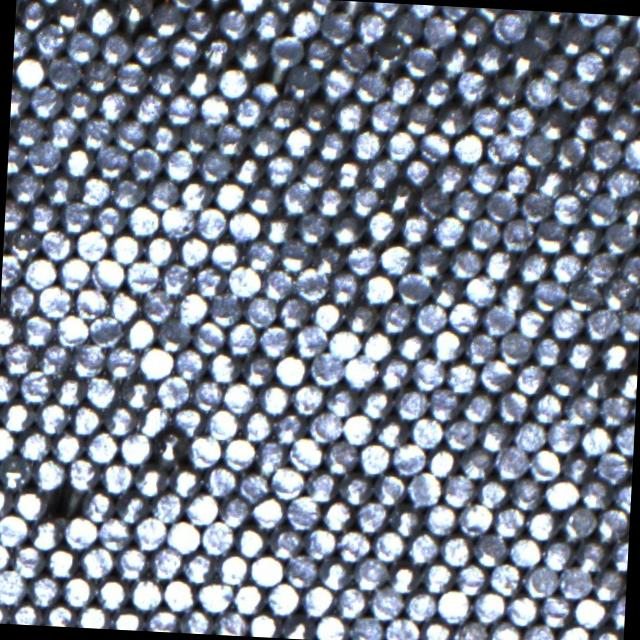tool: (368, 585, 404, 621), (560, 505, 596, 541), (340, 410, 376, 446), (158, 260, 194, 296), (110, 174, 146, 210), (112, 116, 148, 152), (548, 304, 584, 340), (284, 64, 320, 100), (268, 34, 304, 70), (600, 276, 636, 312), (394, 270, 430, 306), (292, 322, 328, 358), (586, 134, 622, 170), (488, 560, 524, 596), (552, 132, 588, 168), (604, 106, 640, 142), (406, 470, 442, 506), (429, 326, 464, 362), (216, 5, 252, 40), (500, 216, 535, 252), (531, 276, 566, 312), (290, 380, 326, 415), (125, 258, 160, 294), (421, 12, 456, 48), (379, 298, 414, 334), (118, 430, 153, 466), (578, 476, 613, 512), (524, 506, 560, 541), (226, 264, 262, 299), (567, 220, 602, 256), (10, 543, 46, 578), (22, 254, 58, 289), (81, 56, 116, 92), (372, 471, 408, 506), (74, 226, 109, 262), (26, 138, 61, 174), (324, 440, 359, 476), (443, 414, 478, 450), (16, 428, 52, 463), (437, 42, 472, 78), (440, 472, 476, 507), (488, 71, 523, 107), (294, 266, 329, 302), (78, 544, 114, 579), (592, 566, 627, 602), (46, 54, 81, 90), (73, 284, 108, 320), (536, 104, 571, 140), (69, 341, 104, 377), (584, 191, 620, 226), (258, 322, 293, 358), (266, 94, 301, 130), (191, 318, 226, 354), (54, 312, 89, 348), (197, 578, 232, 614), (36, 282, 71, 318), (63, 514, 98, 550), (403, 42, 438, 78), (283, 552, 318, 588), (444, 358, 479, 394), (270, 464, 305, 499), (379, 241, 414, 276), (57, 254, 92, 289), (160, 203, 195, 238), (549, 249, 584, 284), (527, 446, 562, 481), (1, 340, 36, 375), (475, 475, 510, 510), (416, 184, 451, 219), (78, 115, 113, 150), (470, 101, 505, 136), (132, 30, 167, 65), (128, 144, 163, 179), (126, 202, 161, 237), (187, 433, 222, 468), (13, 53, 48, 88), (432, 213, 467, 248), (132, 515, 167, 550), (529, 389, 564, 424), (6, 226, 41, 261), (412, 299, 447, 334), (104, 344, 139, 379), (33, 22, 68, 57), (318, 556, 353, 591), (433, 158, 468, 193), (336, 471, 371, 506), (402, 100, 437, 135), (565, 277, 600, 312), (342, 353, 377, 388), (28, 83, 63, 118), (63, 86, 98, 121), (457, 11, 492, 46), (149, 2, 184, 37), (386, 559, 421, 594), (128, 576, 164, 610), (66, 456, 100, 492), (466, 214, 500, 250), (572, 48, 606, 84), (315, 126, 349, 162), (167, 518, 201, 554), (66, 28, 100, 64), (482, 246, 516, 282), (578, 422, 614, 456), (61, 142, 95, 178), (59, 198, 93, 234), (544, 476, 578, 512), (244, 292, 278, 328), (216, 550, 250, 586), (478, 358, 514, 392), (286, 494, 320, 530), (492, 504, 526, 540), (595, 506, 629, 542), (288, 436, 324, 470), (266, 580, 300, 616), (154, 374, 190, 408), (476, 418, 512, 452), (496, 330, 532, 364), (252, 494, 286, 530), (364, 208, 398, 244), (508, 476, 544, 510), (534, 218, 568, 254), (516, 248, 550, 284), (345, 298, 379, 334), (568, 164, 604, 198), (384, 71, 420, 105), (140, 288, 176, 322), (494, 388, 530, 422), (106, 288, 142, 322), (414, 244, 450, 278), (436, 588, 472, 622), (196, 148, 232, 182), (338, 38, 372, 74), (458, 500, 492, 536), (205, 406, 239, 442), (588, 78, 622, 114), (418, 73, 454, 107), (192, 262, 226, 298), (436, 100, 470, 136), (538, 592, 572, 628), (458, 446, 494, 480), (534, 164, 568, 200), (554, 76, 590, 110), (308, 350, 342, 386), (502, 102, 536, 138), (448, 244, 483, 278), (162, 146, 196, 181), (115, 59, 149, 94), (189, 376, 223, 411), (213, 177, 247, 212), (208, 290, 243, 324), (264, 151, 298, 186), (393, 386, 428, 420), (297, 208, 331, 243), (426, 444, 460, 479), (222, 436, 256, 471), (10, 168, 44, 203), (368, 97, 402, 132), (222, 379, 256, 414), (60, 572, 94, 607), (277, 295, 312, 329), (602, 220, 636, 255), (464, 272, 498, 307), (532, 332, 566, 367), (392, 441, 426, 476), (228, 208, 262, 243), (162, 576, 196, 611), (584, 306, 619, 340), (11, 112, 46, 146), (230, 580, 265, 614), (364, 154, 399, 188), (523, 73, 557, 108), (426, 386, 461, 420), (334, 584, 368, 619), (424, 500, 458, 535), (121, 376, 155, 411), (473, 40, 508, 74), (454, 69, 488, 104), (206, 349, 240, 384), (398, 210, 432, 245), (171, 403, 205, 438), (136, 402, 170, 437), (168, 463, 202, 498), (446, 299, 480, 334), (467, 160, 502, 194), (184, 490, 219, 524), (574, 538, 609, 572), (507, 533, 542, 567), (251, 6, 285, 41), (449, 186, 484, 220), (102, 403, 136, 438), (520, 132, 554, 167), (31, 456, 66, 490), (94, 576, 129, 610), (98, 31, 132, 66), (174, 346, 208, 381), (200, 520, 234, 555), (512, 417, 546, 452), (90, 256, 125, 290), (486, 130, 520, 165), (439, 532, 474, 566), (483, 188, 518, 222), (226, 321, 260, 356), (598, 337, 633, 371), (304, 468, 338, 503), (572, 594, 607, 628), (472, 588, 506, 623), (492, 10, 527, 44), (406, 529, 440, 564), (460, 388, 494, 423), (570, 108, 605, 142), (389, 502, 424, 536), (157, 316, 191, 351), (114, 545, 148, 580), (410, 355, 444, 390), (84, 373, 118, 408), (182, 64, 217, 98), (204, 463, 238, 498), (548, 362, 582, 397), (453, 560, 488, 594), (40, 225, 74, 260), (334, 97, 368, 132), (354, 498, 388, 533), (352, 556, 387, 590), (349, 126, 384, 160), (451, 129, 485, 164), (89, 313, 123, 348), (304, 525, 338, 560), (352, 68, 387, 102), (513, 360, 548, 394), (296, 156, 331, 190), (409, 414, 444, 448), (383, 128, 418, 162), (357, 440, 391, 475), (597, 392, 631, 427), (564, 336, 598, 371), (147, 546, 182, 580), (359, 385, 393, 420), (300, 96, 334, 131), (560, 449, 594, 484), (1, 398, 34, 434), (214, 120, 247, 156), (200, 32, 233, 68), (36, 400, 70, 434), (27, 572, 61, 606), (320, 497, 354, 531), (240, 409, 274, 443), (100, 459, 134, 493), (314, 184, 348, 218), (329, 270, 363, 304), (372, 528, 406, 562), (481, 302, 515, 336), (362, 270, 396, 304), (176, 290, 210, 324), (77, 173, 111, 207), (494, 444, 528, 478), (320, 11, 354, 45), (595, 450, 629, 484), (240, 352, 274, 386), (320, 66, 354, 100), (584, 250, 618, 284), (474, 532, 508, 566), (281, 180, 315, 214), (182, 550, 216, 584), (272, 410, 306, 444), (18, 368, 52, 402), (218, 494, 252, 528), (524, 564, 558, 598), (403, 588, 437, 622), (325, 384, 359, 418), (69, 403, 103, 437), (518, 188, 552, 222), (374, 415, 408, 449), (327, 326, 361, 360), (44, 544, 78, 578), (540, 48, 574, 82), (505, 592, 539, 626), (268, 524, 302, 558), (247, 182, 281, 216), (179, 178, 213, 212), (50, 429, 84, 463), (262, 212, 296, 246), (590, 20, 624, 54), (394, 327, 428, 361), (182, 7, 216, 41), (138, 345, 172, 379), (2, 283, 36, 317), (260, 266, 294, 300), (541, 538, 575, 572), (389, 10, 423, 44), (420, 559, 454, 593), (558, 564, 592, 598), (52, 374, 86, 408), (330, 213, 364, 247), (181, 120, 215, 154), (142, 232, 176, 266), (336, 528, 370, 562), (463, 330, 497, 364), (360, 328, 394, 362), (236, 468, 270, 502), (96, 516, 130, 550), (546, 418, 580, 452), (132, 463, 166, 497), (310, 298, 344, 332), (234, 523, 268, 557), (526, 18, 560, 52), (146, 176, 180, 210), (194, 206, 228, 240), (257, 381, 291, 415), (550, 190, 584, 224), (418, 128, 452, 162), (282, 124, 316, 158), (124, 315, 158, 349), (274, 352, 308, 386), (330, 156, 364, 190), (234, 36, 268, 70), (344, 242, 378, 276), (13, 486, 47, 520), (28, 517, 62, 551), (514, 304, 548, 338), (80, 488, 114, 522), (348, 181, 382, 215), (496, 278, 530, 312), (500, 162, 534, 196), (244, 237, 278, 271), (231, 94, 265, 128), (250, 552, 284, 586), (150, 489, 184, 523), (116, 491, 150, 525), (20, 312, 54, 346), (231, 152, 265, 186), (604, 166, 638, 200), (248, 124, 282, 158), (508, 44, 542, 78), (148, 62, 182, 96), (254, 439, 288, 473), (300, 582, 334, 616), (378, 356, 412, 390), (557, 20, 591, 54), (562, 392, 596, 426), (308, 410, 342, 444), (132, 90, 166, 124), (34, 342, 68, 376), (354, 10, 388, 44), (303, 36, 337, 70), (92, 202, 126, 236), (154, 432, 188, 466), (278, 240, 312, 274), (44, 170, 78, 204), (45, 114, 79, 148), (97, 88, 131, 122), (400, 154, 434, 188), (167, 33, 200, 68), (24, 200, 59, 233), (383, 180, 418, 213), (370, 43, 405, 76), (85, 429, 118, 463), (177, 234, 210, 268), (109, 230, 142, 264), (209, 237, 243, 270), (217, 64, 250, 98), (287, 7, 321, 40), (164, 92, 198, 125), (580, 366, 614, 399), (95, 144, 128, 178), (147, 120, 180, 154), (313, 244, 347, 277), (608, 45, 640, 80), (0, 453, 32, 488), (85, 3, 118, 36), (430, 276, 464, 308), (17, 0, 51, 32), (54, 482, 86, 516), (249, 70, 283, 102), (198, 92, 230, 125), (116, 0, 151, 30), (52, 0, 86, 30), (214, 608, 248, 637), (76, 602, 110, 630), (180, 607, 214, 635), (314, 612, 348, 640), (0, 511, 28, 545), (248, 610, 282, 638), (282, 612, 315, 640), (0, 568, 26, 603), (385, 614, 419, 640), (146, 606, 178, 633), (349, 615, 383, 640), (112, 606, 144, 632), (452, 617, 488, 640), (419, 616, 453, 640), (616, 307, 640, 341), (10, 601, 42, 626), (44, 603, 76, 628), (614, 367, 638, 400), (617, 251, 640, 285), (618, 193, 640, 227), (613, 422, 635, 456), (4, 197, 26, 231), (1, 254, 23, 288), (488, 619, 522, 640), (608, 536, 629, 570), (7, 140, 28, 174), (555, 621, 590, 640), (612, 479, 632, 512), (0, 312, 20, 345), (622, 77, 640, 113), (608, 594, 626, 630), (621, 136, 640, 170), (13, 24, 32, 58), (10, 84, 29, 118), (0, 369, 19, 402), (521, 622, 555, 640), (590, 624, 624, 640), (0, 424, 16, 458), (334, 0, 367, 16), (304, 0, 336, 16), (508, 10, 540, 26), (575, 13, 608, 28), (270, 0, 303, 15), (370, 2, 403, 17), (405, 4, 437, 19), (236, 0, 269, 14), (0, 484, 13, 518), (0, 540, 11, 574), (167, 0, 201, 9), (0, 600, 9, 624), (632, 16, 640, 41), (71, 0, 103, 5), (36, 0, 68, 4)
